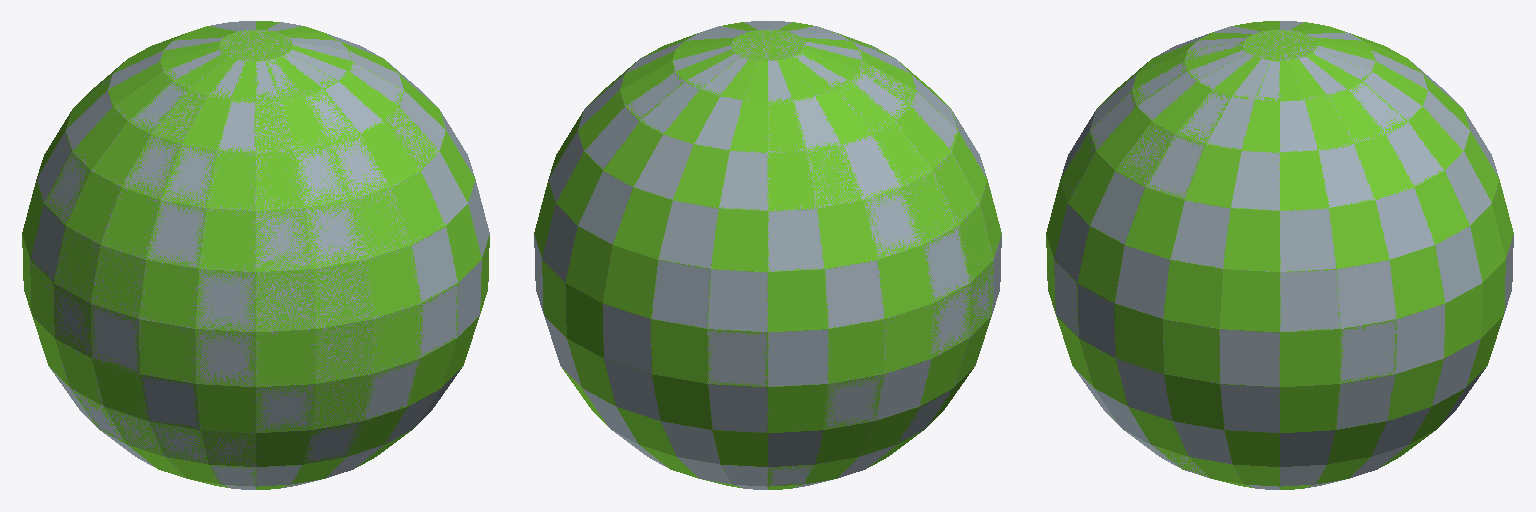
File: Ball_green_01.obj
3 views of the same model, side by side, from view 1: azimuth 30°, elevation 25°; view 2: azimuth 150°, elevation 25°; view 3: azimuth 270°, elevation 25° (orthographic).
Visible parts, largest first — view 1: Mesh1 Ball_green Model; view 2: Mesh1 Ball_green Model; view 3: Mesh1 Ball_green Model.
Boxes of the visible parts, <box> form: Mesh1 Ball_green Model: <box>22,21,489,489</box>; Mesh1 Ball_green Model: <box>534,21,1001,489</box>; Mesh1 Ball_green Model: <box>1046,21,1513,489</box>.
Bounding box in the file's own units: 0.2099 × 0.2096 × 0.2099.